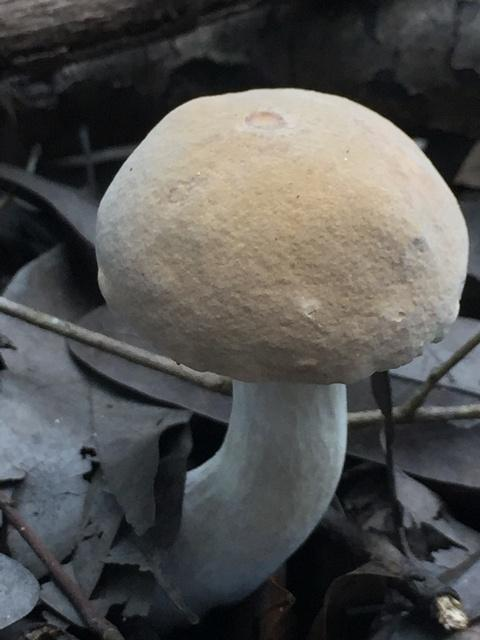edible_mushroom: (90, 84, 470, 618)
